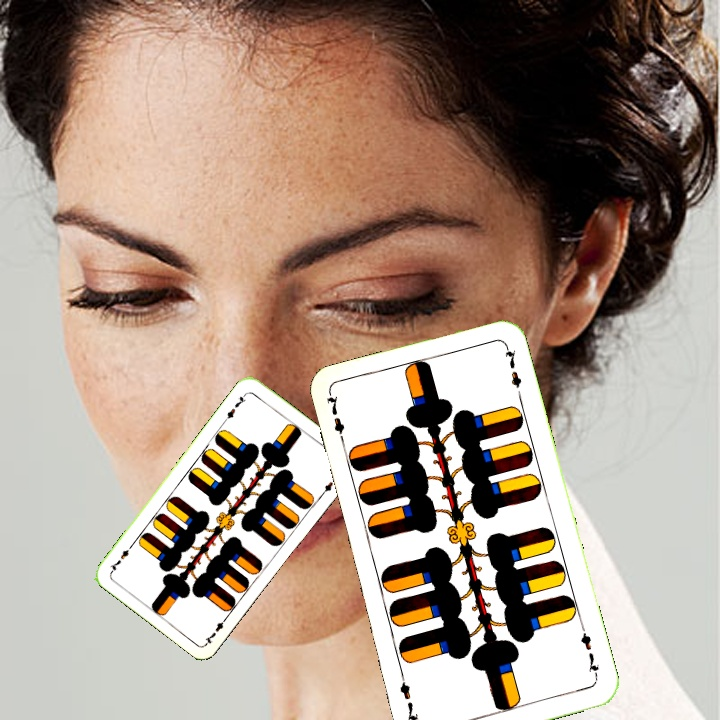E7: (576, 623, 602, 681), (322, 391, 348, 449), (201, 612, 231, 647), (221, 389, 250, 424)
